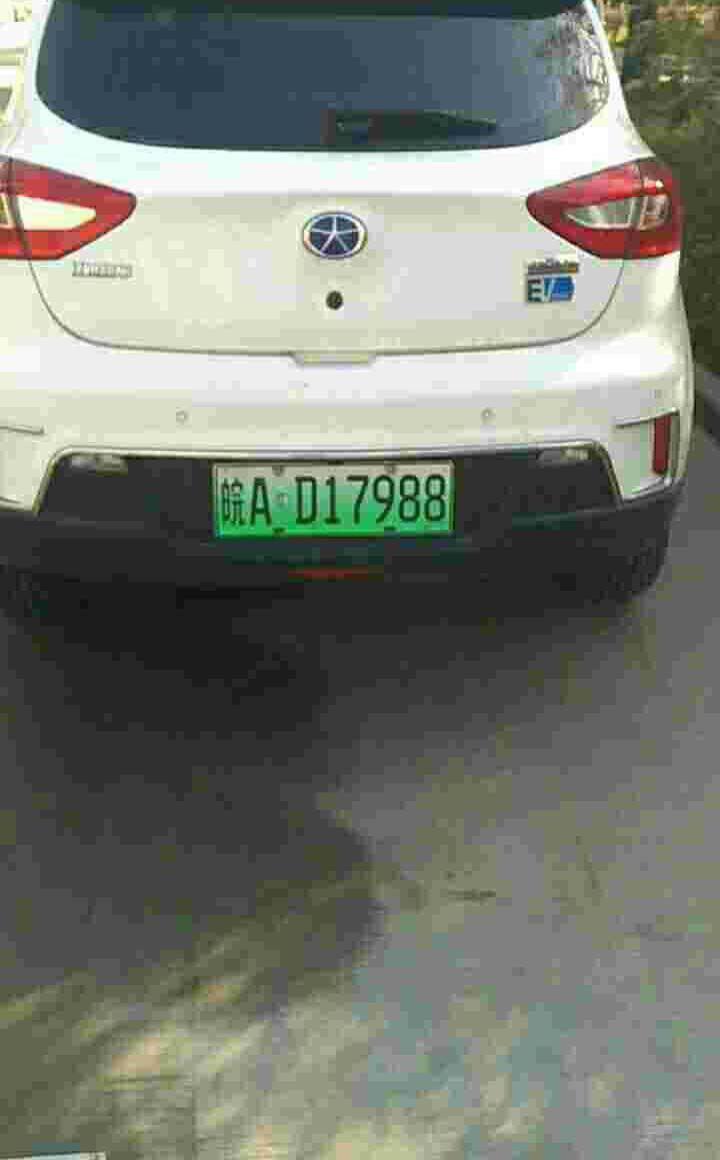car_green: (206, 459, 463, 544)
